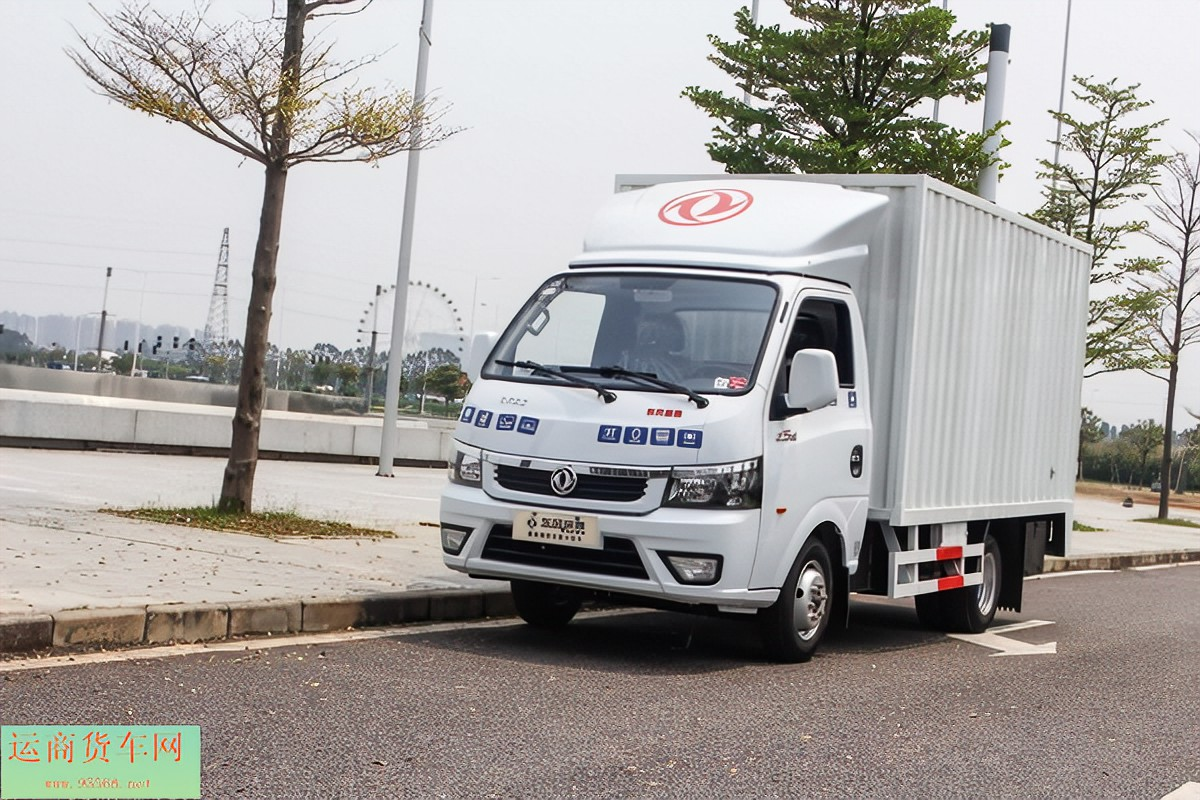smalltruck: (437, 141, 1107, 670)
